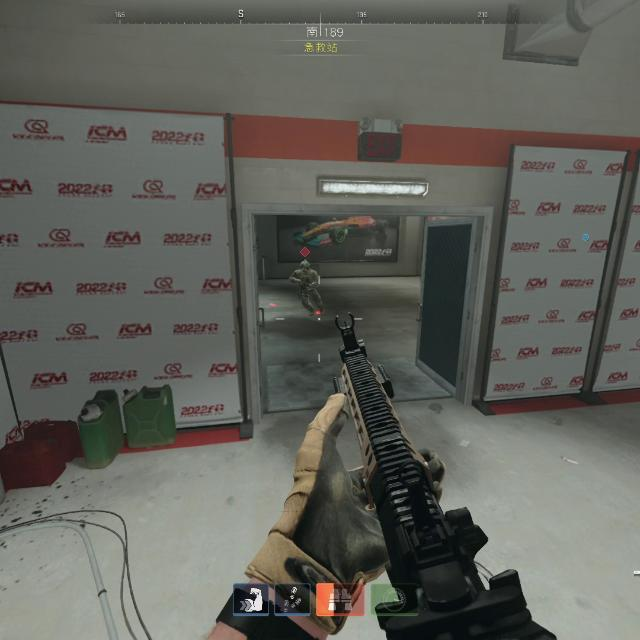MW2_body: (288, 246, 326, 316)
